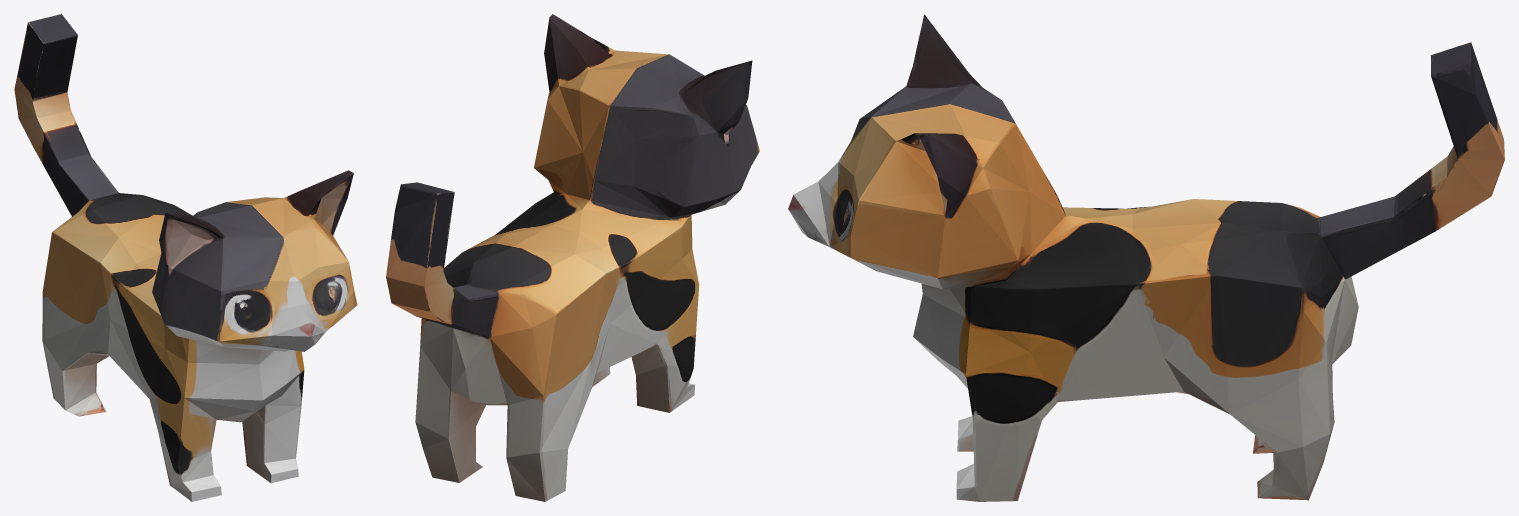
3 views of the same model, side by side, from view 1: azimuth 30°, elevation 25°; view 2: azimuth 150°, elevation 25°; view 3: azimuth 270°, elevation 25° (orthographic). The views are drawn at different scales.
Visible parts, largest first — view 1: Figure; view 2: Figure; view 3: Figure.
Boxes of the visible parts, box(x1,y1,x2,y2) form: Figure: box(14, 14, 357, 501); Figure: box(386, 14, 759, 501); Figure: box(788, 14, 1504, 501).
Size of the model in its own units: 0.252 by 0.4162 by 0.6499.
Materials: 1 (1 with a texture image).
